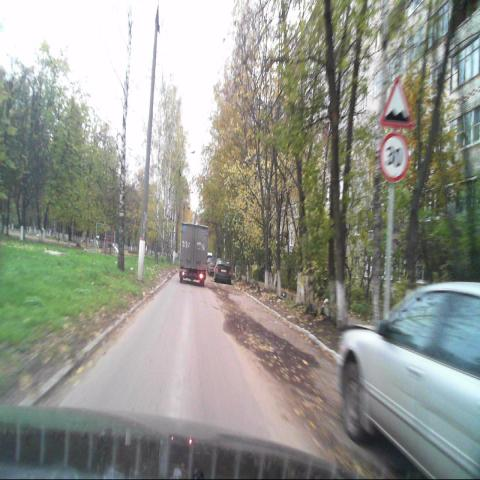1_16: (380, 73, 414, 129)
